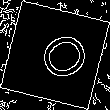O_SW: (22, 23, 88, 87)
